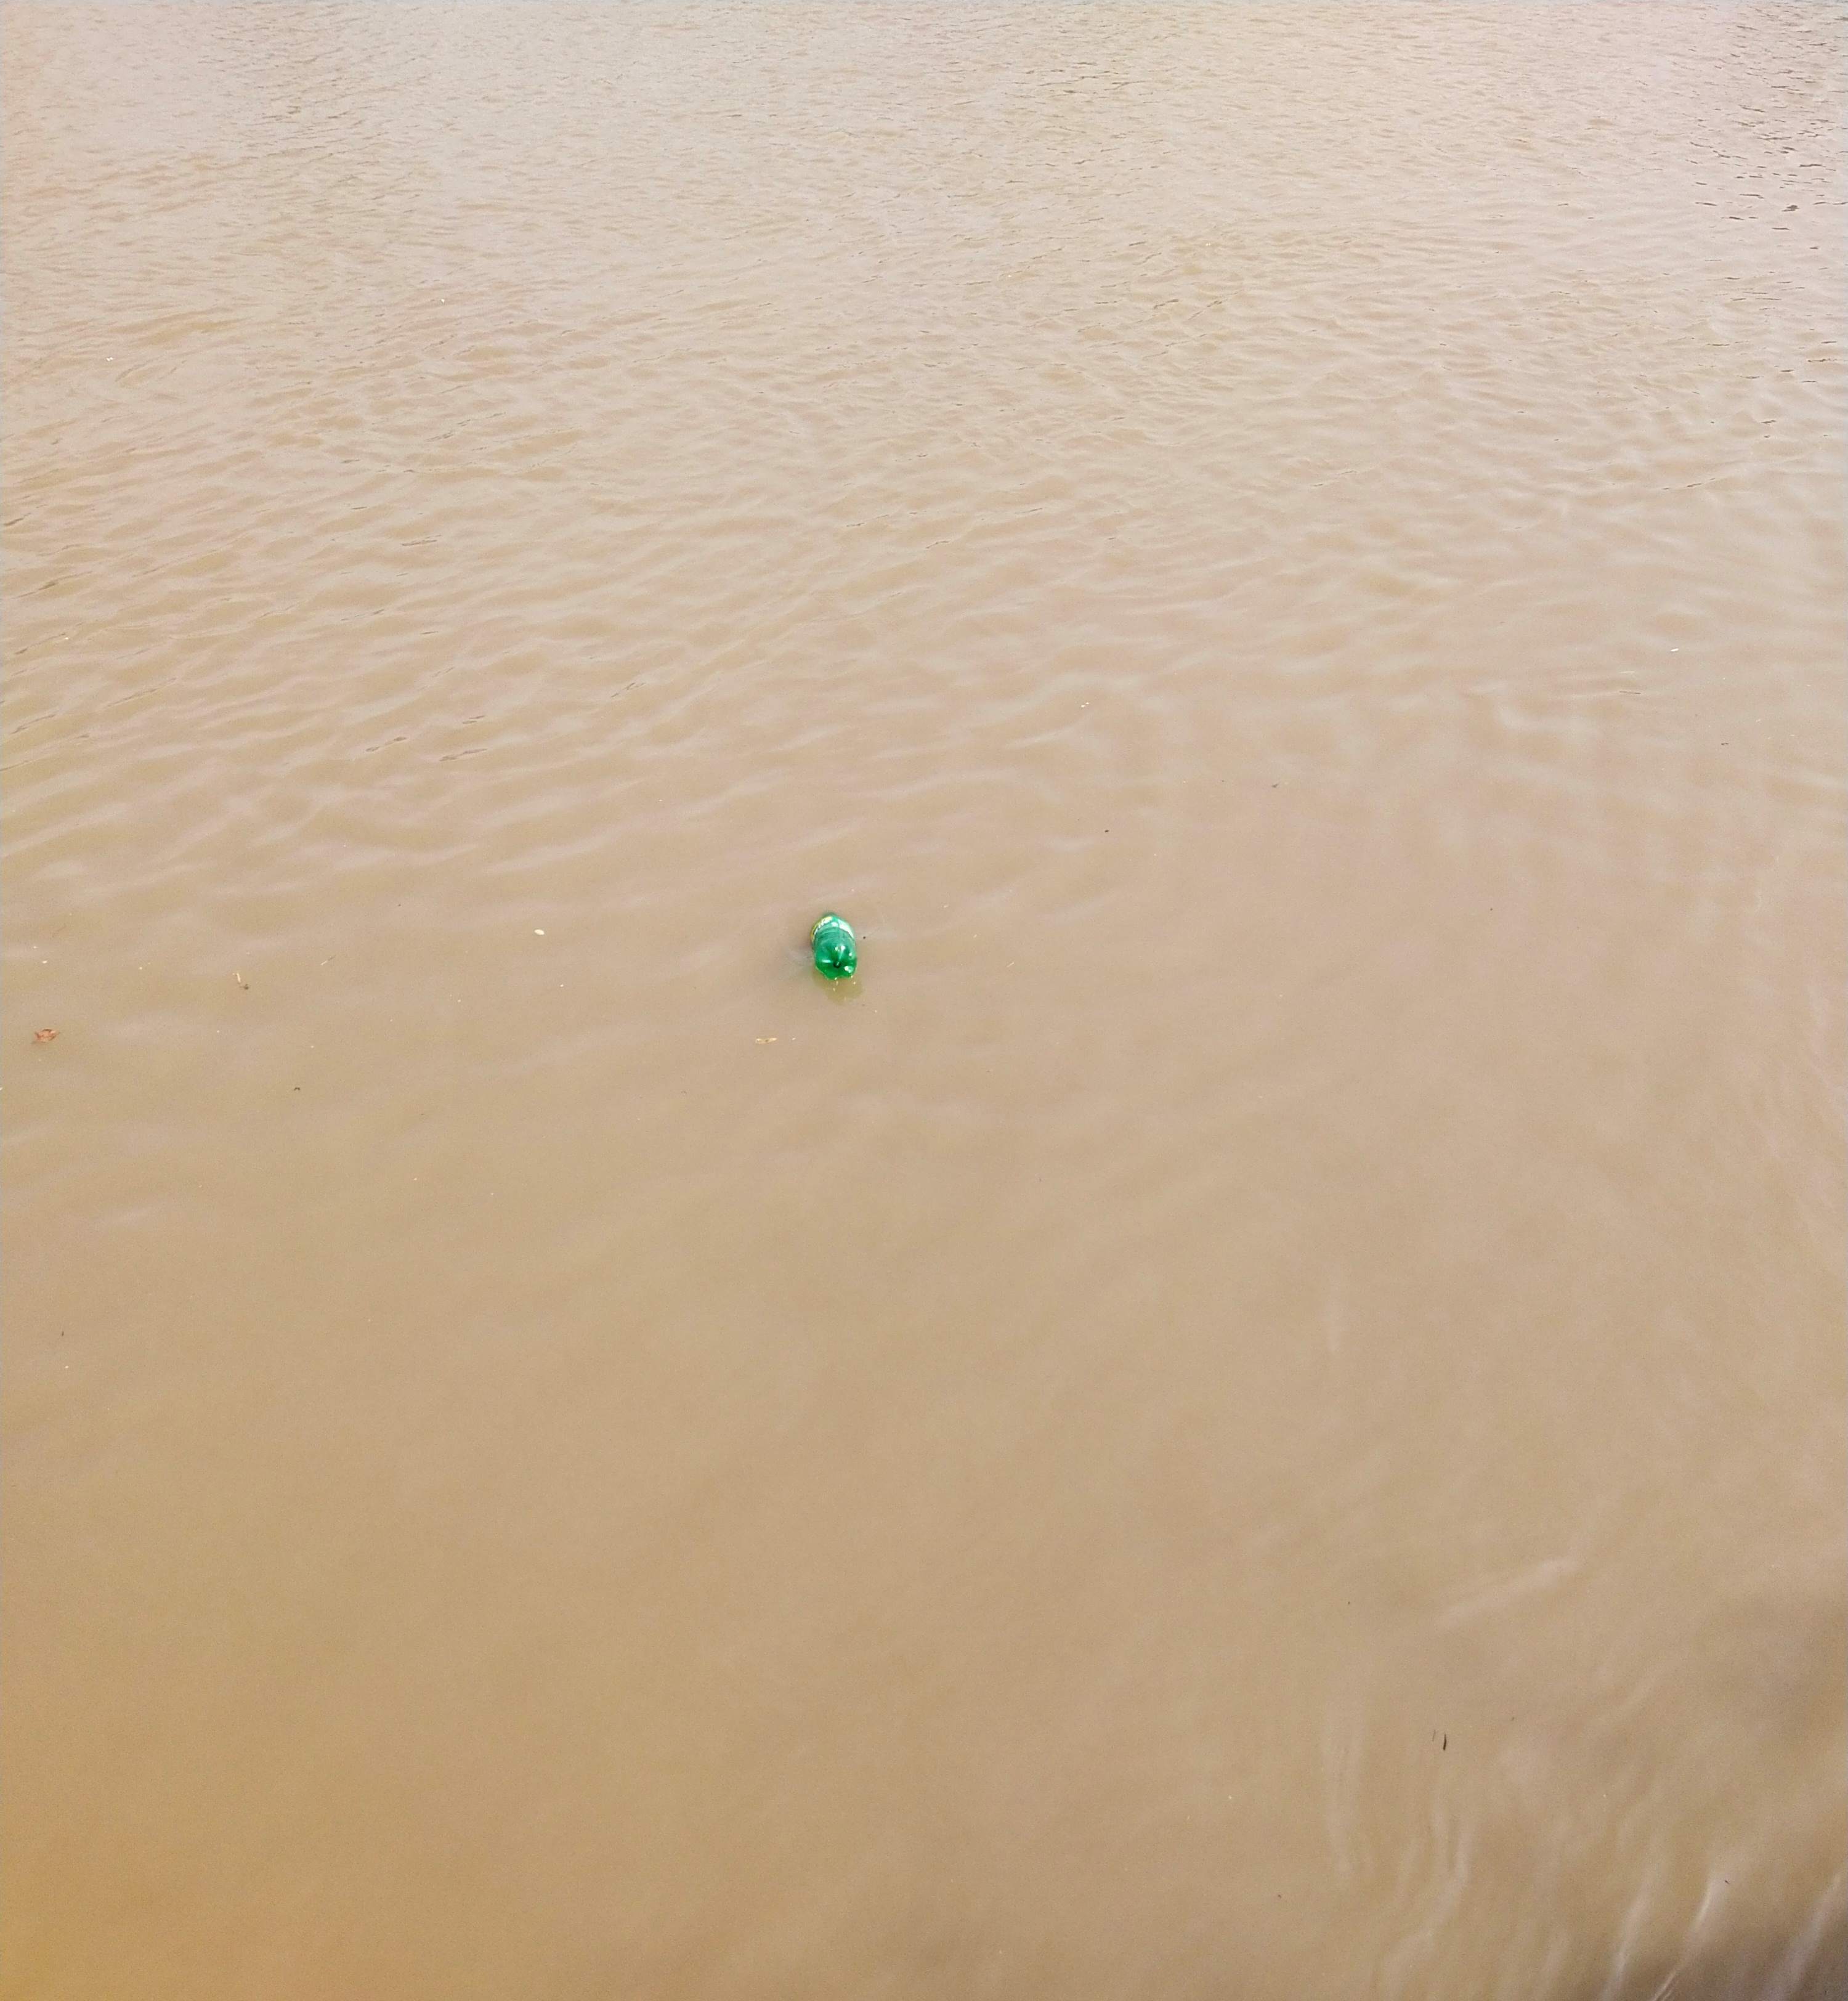Plastic Bottle: (811, 910, 856, 980)
